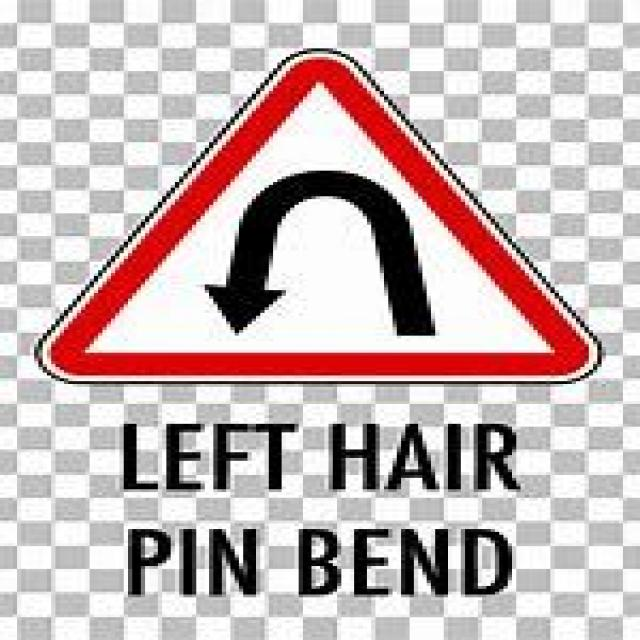LEFT_HAIR_PIN_BEND: (30, 46, 597, 384)
